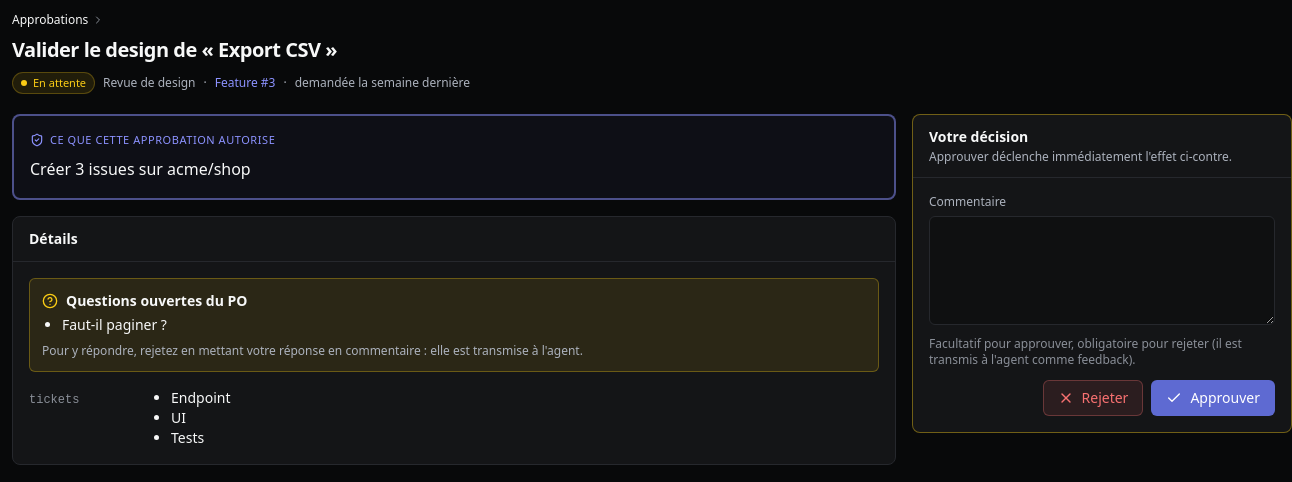
Écran Approbation › bloque le rejet sans commentaire (aucun POST envoyé)
Click the button "Rejeter". click: (1093, 398)
box: [1042,380,1143,416]
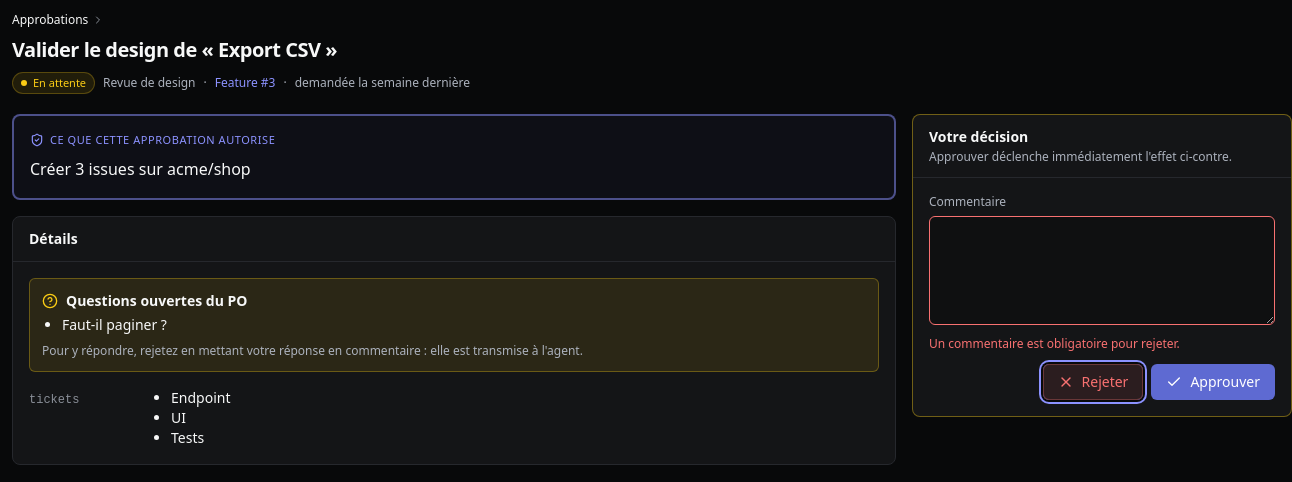
Result: the message reads "Un commentaire est obligatoire pour rejeter." at [929,335,1180,352]
